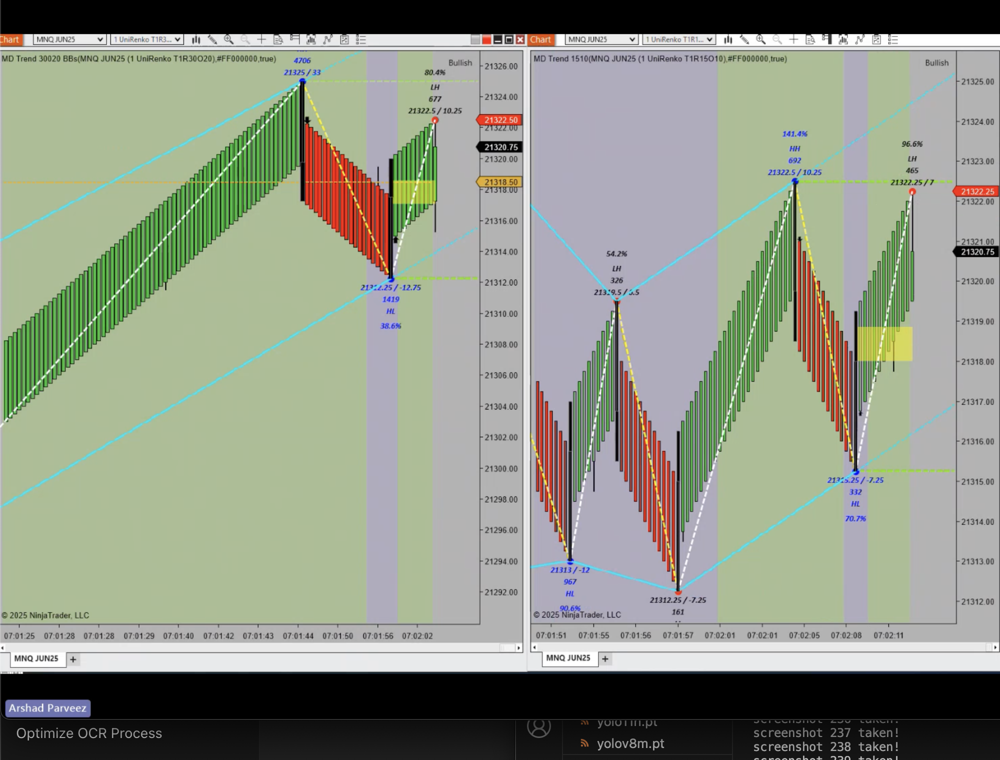HH: (783, 144, 810, 160)
HL: (557, 582, 587, 605), (380, 303, 404, 322), (842, 493, 866, 510)
LH: (604, 258, 633, 277), (424, 80, 455, 97), (900, 152, 928, 169)
